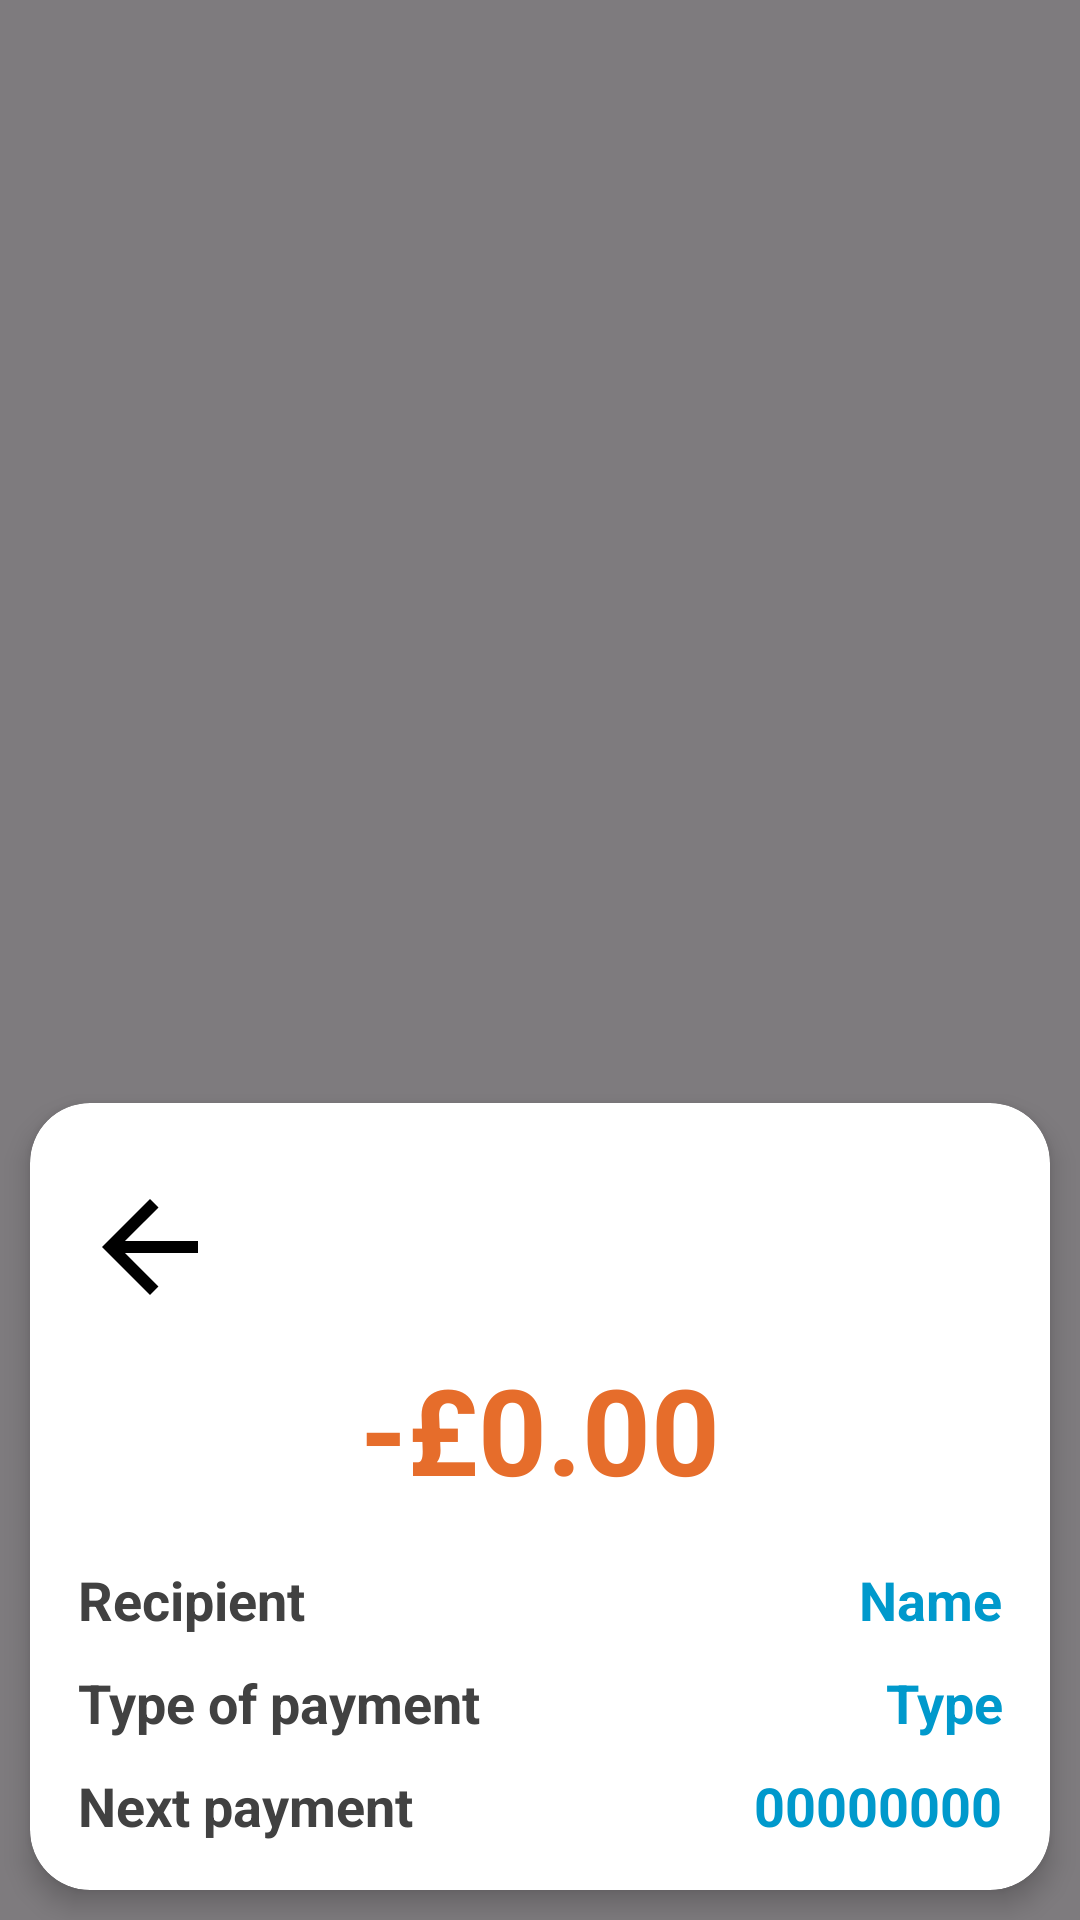

Where to tap for icons on this 1080 x 1920 app screen, as point (x, y):
arrow back: point (150, 1247)
